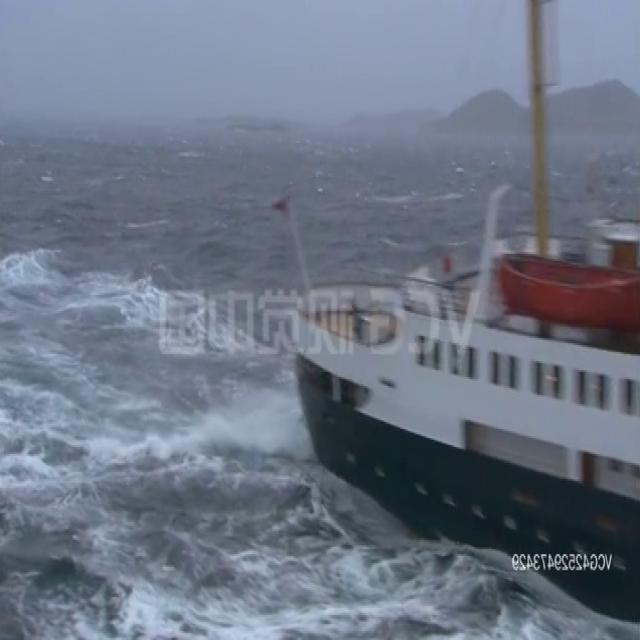passenger ship: (298, 177, 640, 590)
